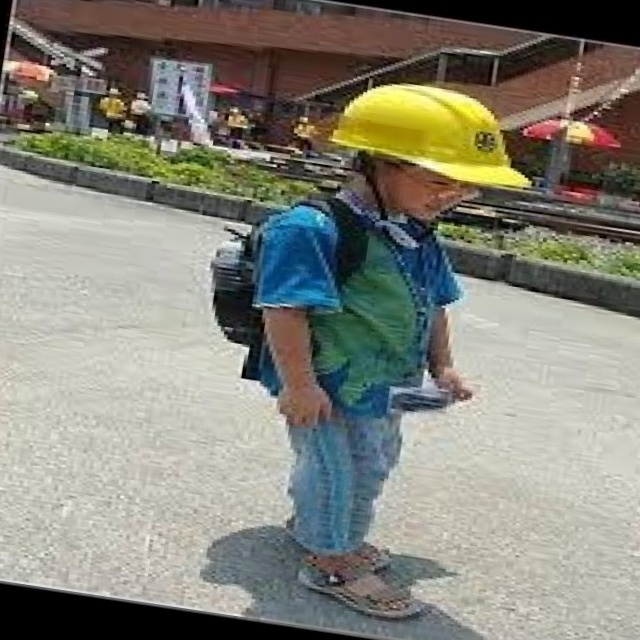Con_Casco: (324, 67, 531, 231)
